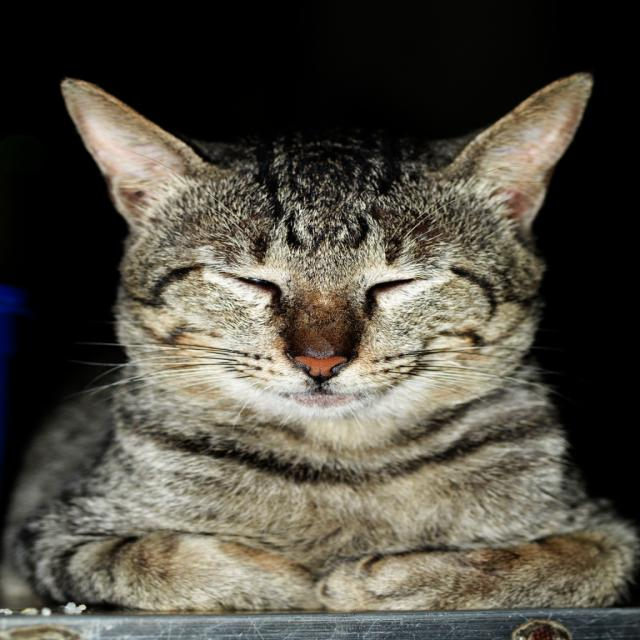Cat: (0, 66, 638, 612)
